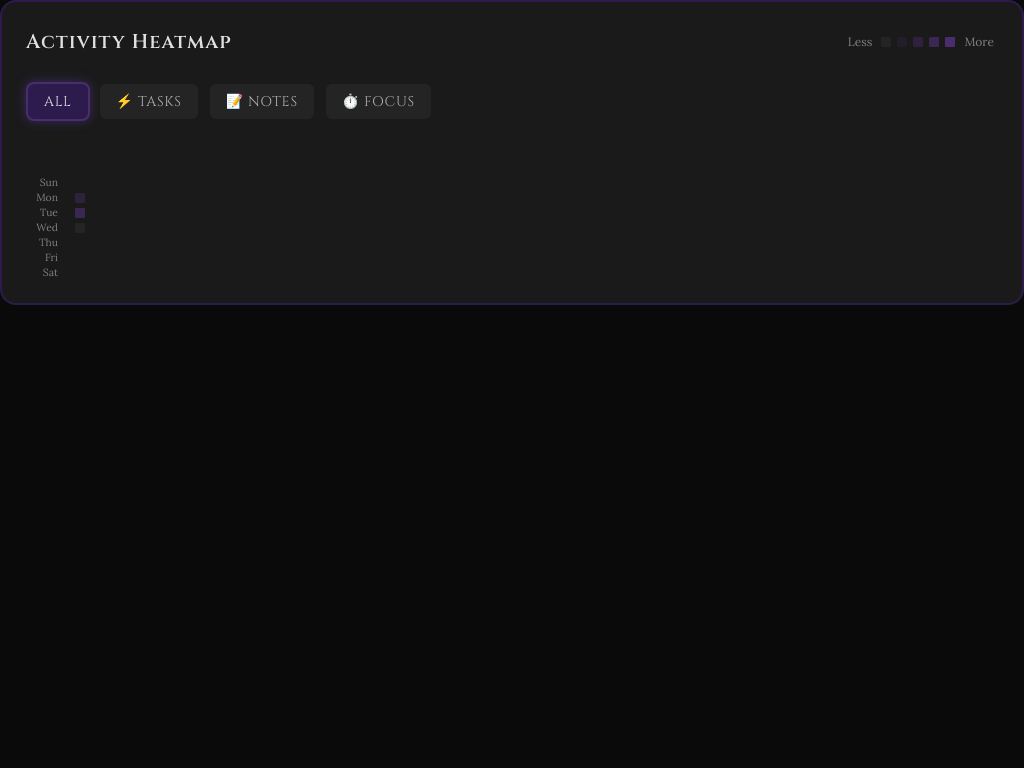
Test: ActivityHeatmap - Day Click Integration › should close modal when close button is clicked
Click the cell named "Monday, January 1, 2024, medium activity. 3 tasks, 2 notes,": (80, 198) [74, 192, 86, 204]
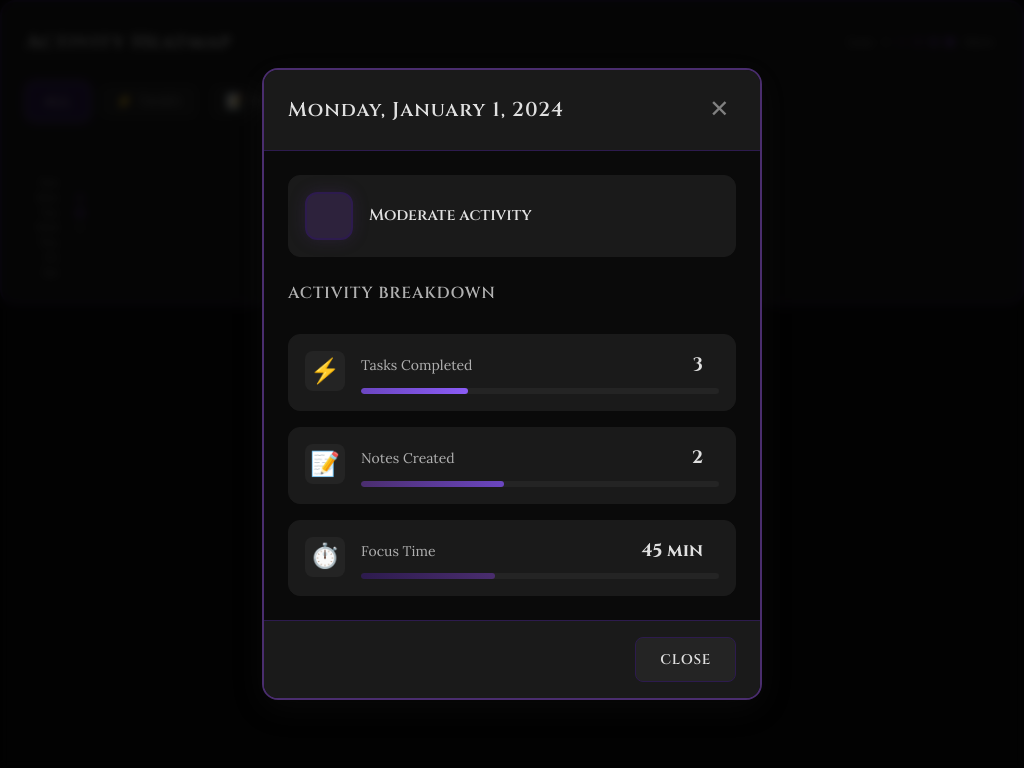
Check: the dialog is shown
# Click close button
Click the button named "Close day details": (720, 110) [704, 94, 736, 126]
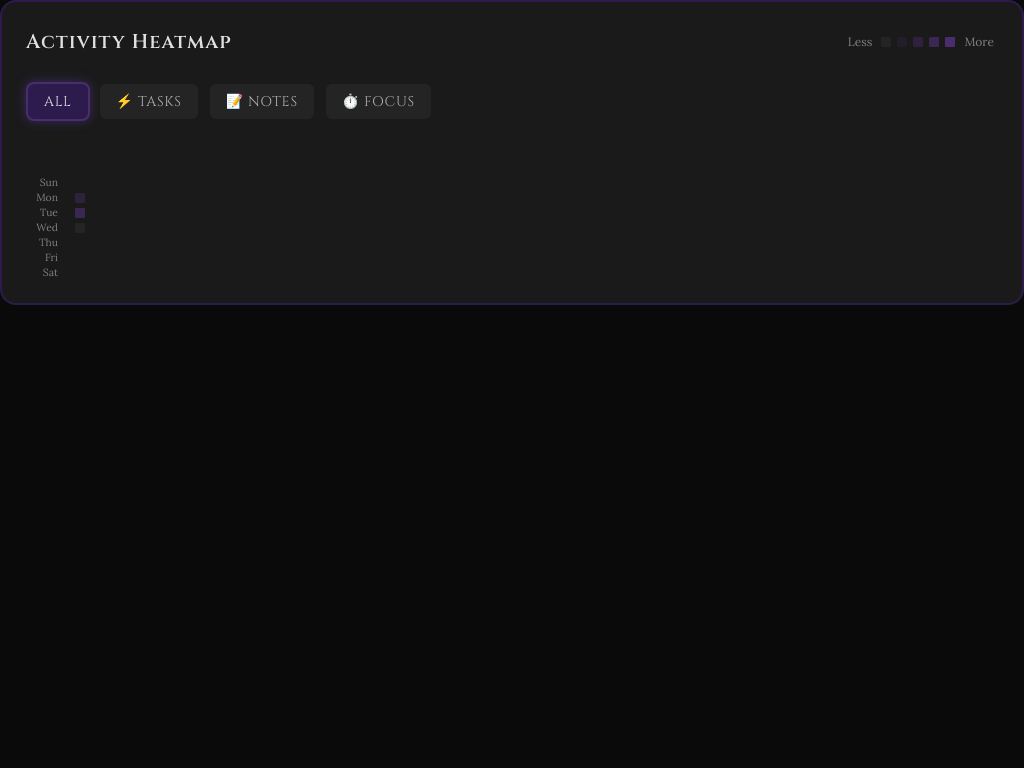
Check: the dialog is gone
